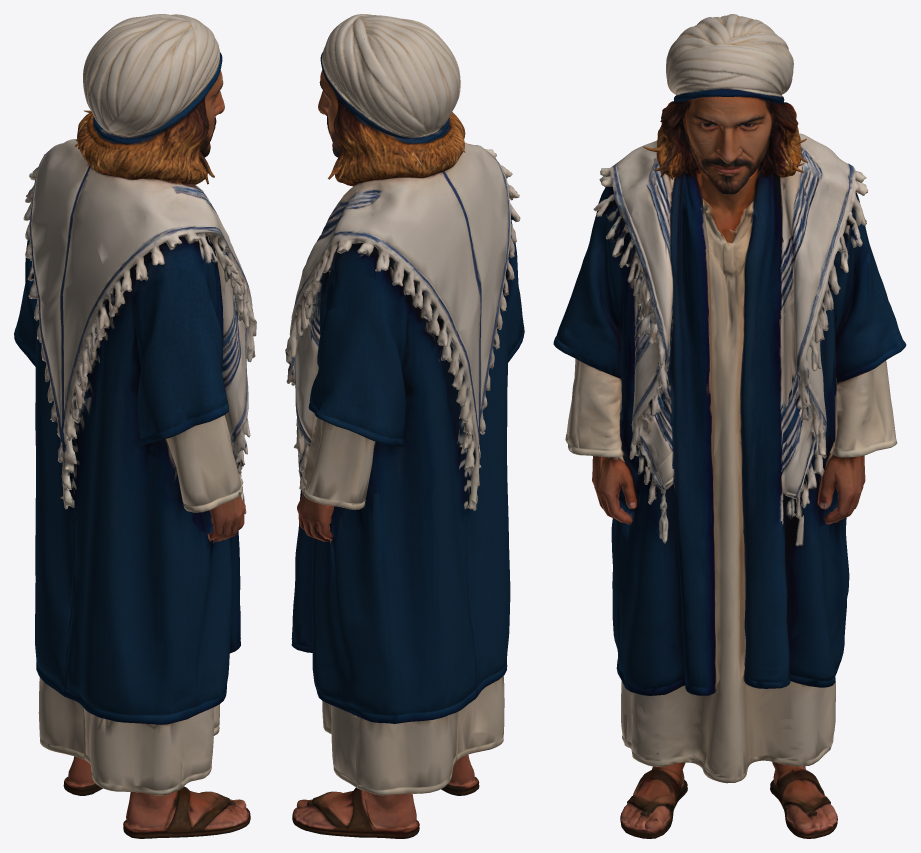
Rendered from teacher-desktop.glb.
The picture shows the model from 3 angles, left to right: view 1: azimuth 30°, elevation 25°; view 2: azimuth 150°, elevation 25°; view 3: azimuth 270°, elevation 25°; orthographic projection.
Parts seen in each view (by area): view 1: tripo_node_6cbe2760-84dd-41a6-add2-d0f4e5f9dd4b; view 2: tripo_node_6cbe2760-84dd-41a6-add2-d0f4e5f9dd4b; view 3: tripo_node_6cbe2760-84dd-41a6-add2-d0f4e5f9dd4b.
Boxes of the visible parts, bbox=[...] form: tripo_node_6cbe2760-84dd-41a6-add2-d0f4e5f9dd4b: bbox=[14, 14, 256, 838]; tripo_node_6cbe2760-84dd-41a6-add2-d0f4e5f9dd4b: bbox=[285, 14, 524, 838]; tripo_node_6cbe2760-84dd-41a6-add2-d0f4e5f9dd4b: bbox=[553, 14, 906, 838].
Size of the model in its own units: 0.407 by 1.8 by 0.7298.
Materials: 1 (1 with a texture image).
